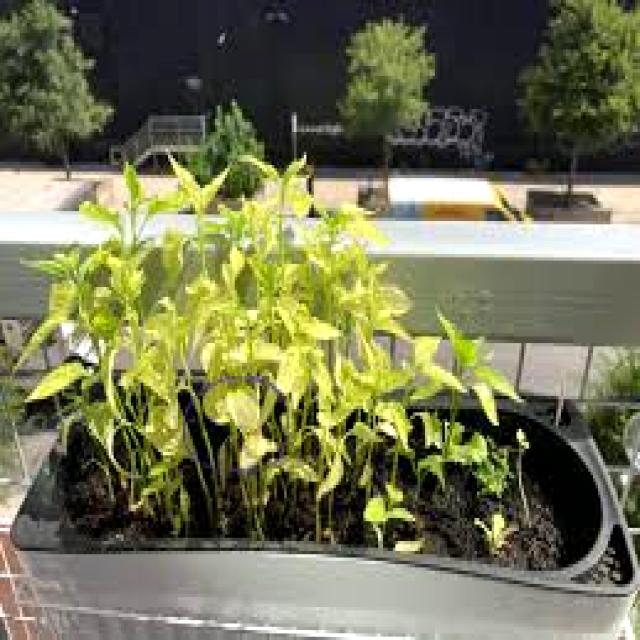yellowish leaf: (34, 180, 531, 503)
